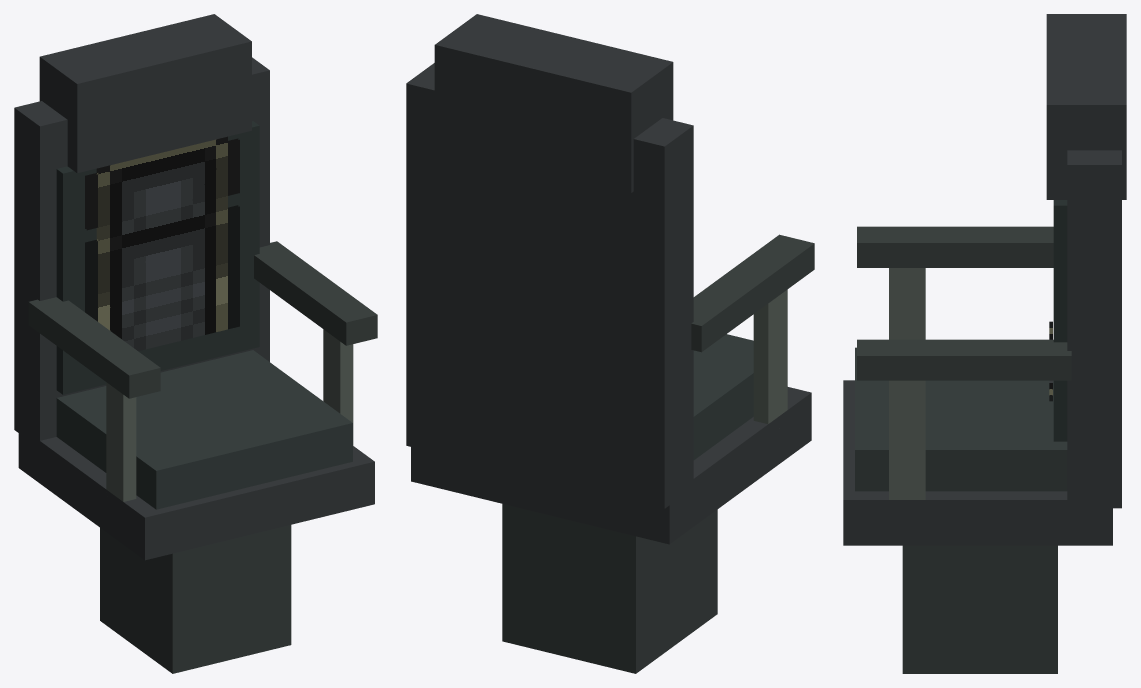
Rendered from CMU3DInteriorRMCSeatHumveeDriver.glb.
3 renders of one model, left to right at view 1: azimuth 30°, elevation 25°; view 2: azimuth 150°, elevation 25°; view 3: azimuth 270°, elevation 25°, orthographic. The views are drawn at different scales.
Parts seen in each view (by area): view 1: source seat upholstery, cushion, headrest, bolted pedestal, seat pan, reinforced back, back cushion, arm rest (×2), arm support (×2); view 2: reinforced back, headrest, bolted pedestal, seat pan, arm rest, cushion, arm support; view 3: bolted pedestal, reinforced back, cushion, arm rest (×2), seat pan, headrest, arm support (×2), back cushion.
Part boxes in pixels (box(x1,y1,x2,y2)): source seat upholstery: box(85, 136, 239, 351); cushion: box(56, 350, 352, 509); headrest: box(39, 14, 251, 173); bolted pedestal: box(100, 525, 291, 673); seat pan: box(18, 425, 374, 560); reinforced back: box(14, 57, 269, 440); back cushion: box(56, 121, 259, 394); arm rest (×2): box(28, 241, 377, 398); arm support (×2): box(106, 329, 353, 501); reinforced back: box(406, 63, 693, 508); headrest: box(434, 14, 673, 192); bolted pedestal: box(502, 504, 717, 673); seat pan: box(411, 387, 811, 544); arm rest: box(691, 234, 814, 352); cushion: box(693, 334, 753, 459); arm support: box(753, 289, 787, 423); bolted pedestal: box(902, 545, 1057, 673); reinforced back: box(1067, 150, 1121, 508); cushion: box(855, 347, 1067, 491); arm rest (×2): box(857, 226, 1071, 380); seat pan: box(843, 380, 1112, 545); headrest: box(1046, 14, 1126, 199); arm support (×2): box(889, 268, 925, 499); back cushion: box(1053, 200, 1067, 441).
Bounding box in the file's own units: 0.67 × 1.41 × 0.62.
7 materials, 1 textured.
